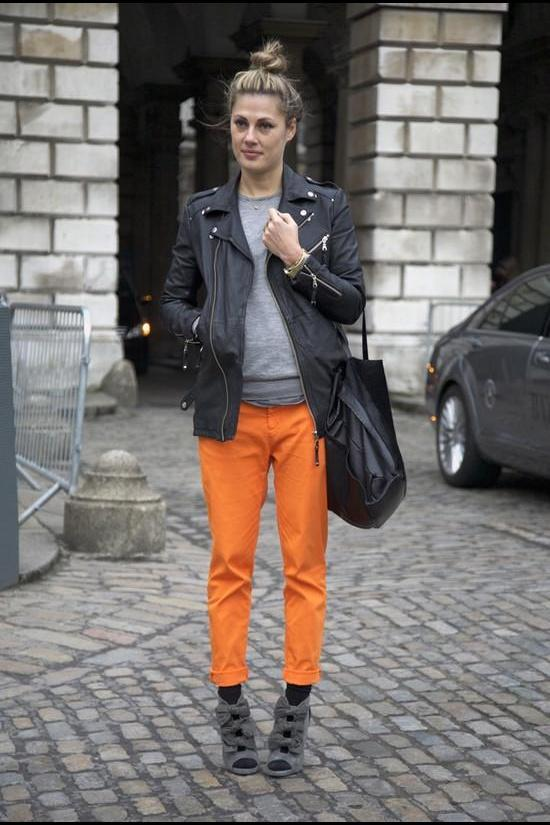pants: (197, 389, 328, 687)
sweater: (160, 166, 366, 442)
